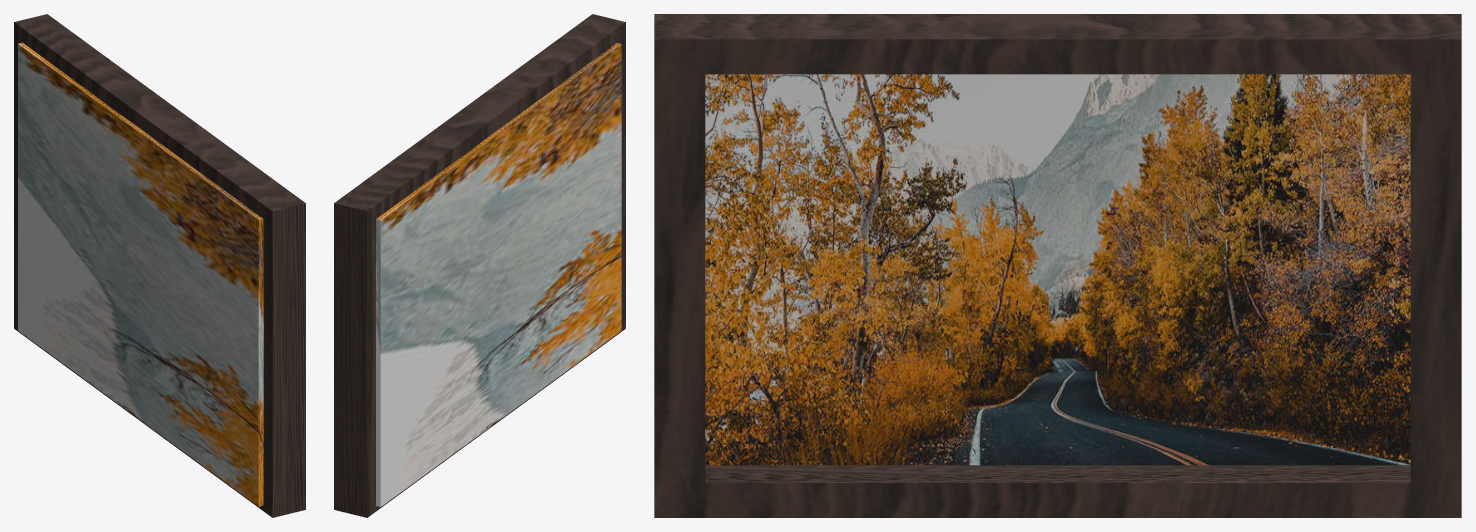
3 views of the same model, side by side, from view 1: azimuth 30°, elevation 25°; view 2: azimuth 150°, elevation 25°; view 3: azimuth 270°, elevation 25° (orthographic). The views are drawn at different scales.
Parts seen in each view (by area): view 1: 액자2; view 2: 액자2; view 3: 액자2.
Boxes of the visible parts, <box> form: 액자2: <box>14,14,305,517</box>; 액자2: <box>334,14,625,517</box>; 액자2: <box>654,14,1461,517</box>.
Bounding box in the file's own units: 20.92 × 161 × 246.
2 materials, 2 textured.
